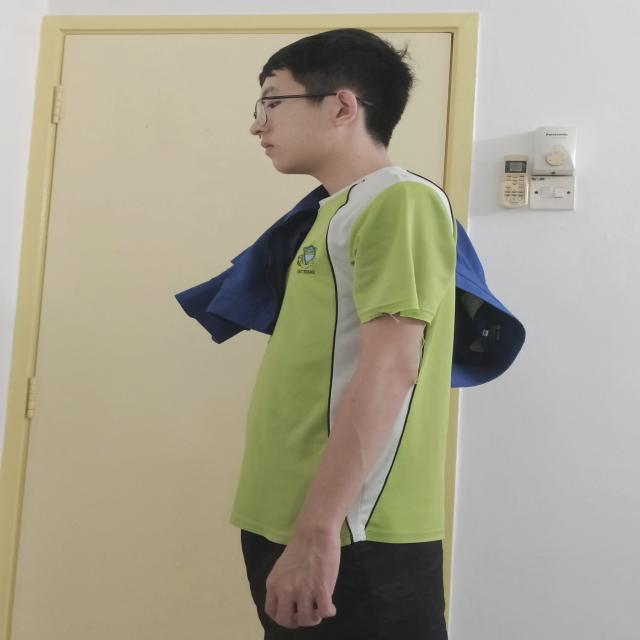person_without_labcoat: (176, 29, 525, 640)
